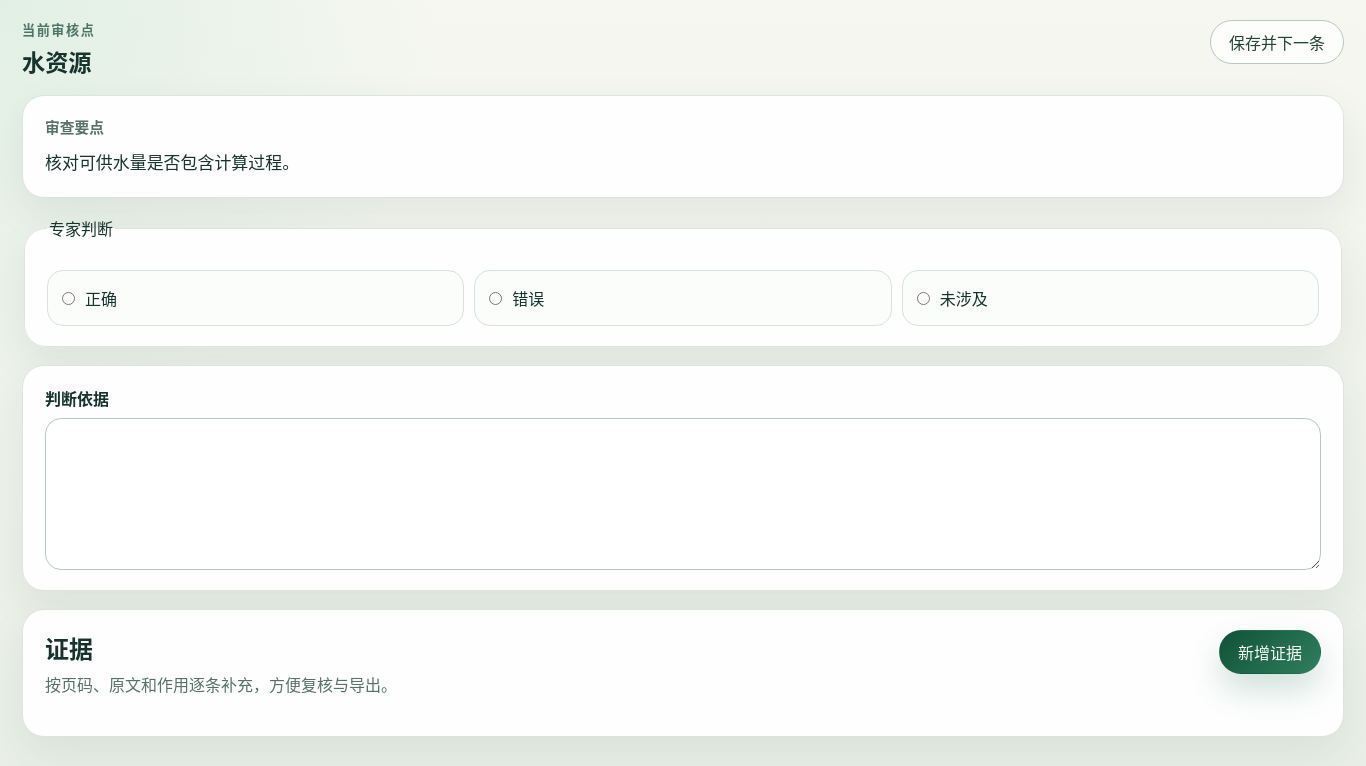
Scenario: AnnotationPanel › completes a stateful edit cycle for a stable task index at array position zero
Click the radio button labelled "错误" at (496, 298), box [489,292,502,305]
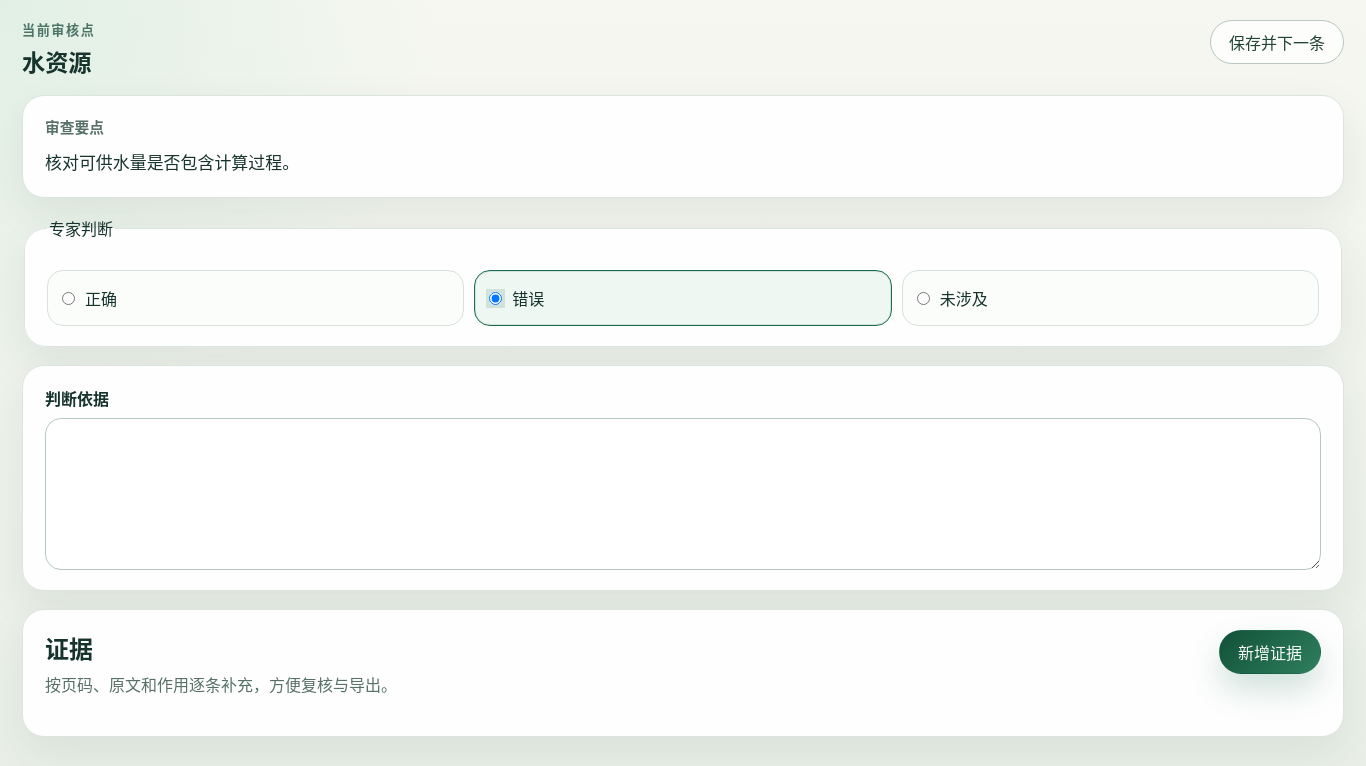
Result: the radio button labelled "错误" is checked at [489,292,502,305]
Type "状态化判断依据" into the text box labelled "判断依据" at (683, 494), box [45,418,1321,570]
Click the button "新增证据" at (1270, 652), box [1219,630,1321,674]
(page scrolled)
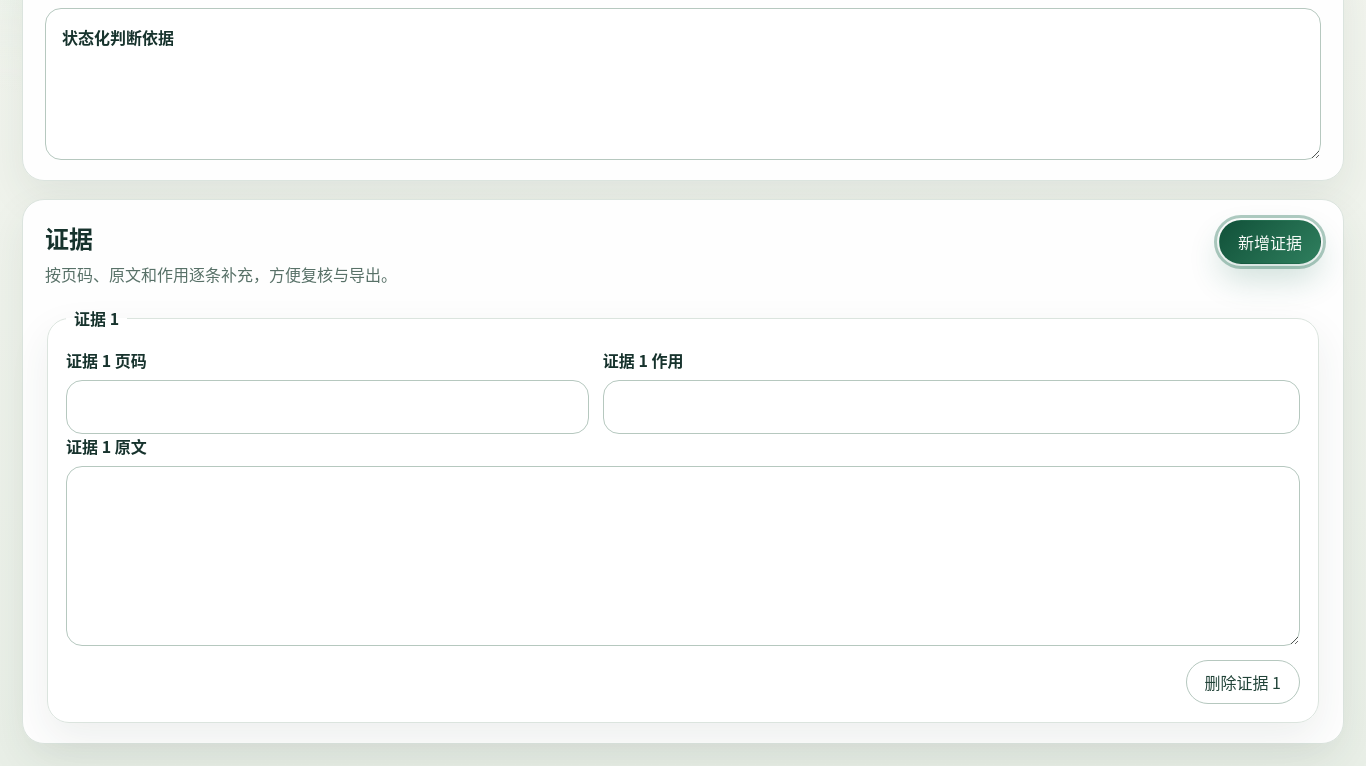
Result: the element "证据 1" is shown at [47,306,1319,723]
Type "6" into the field labelled "证据 1 页码" at (327, 407), box [66,380,589,434]
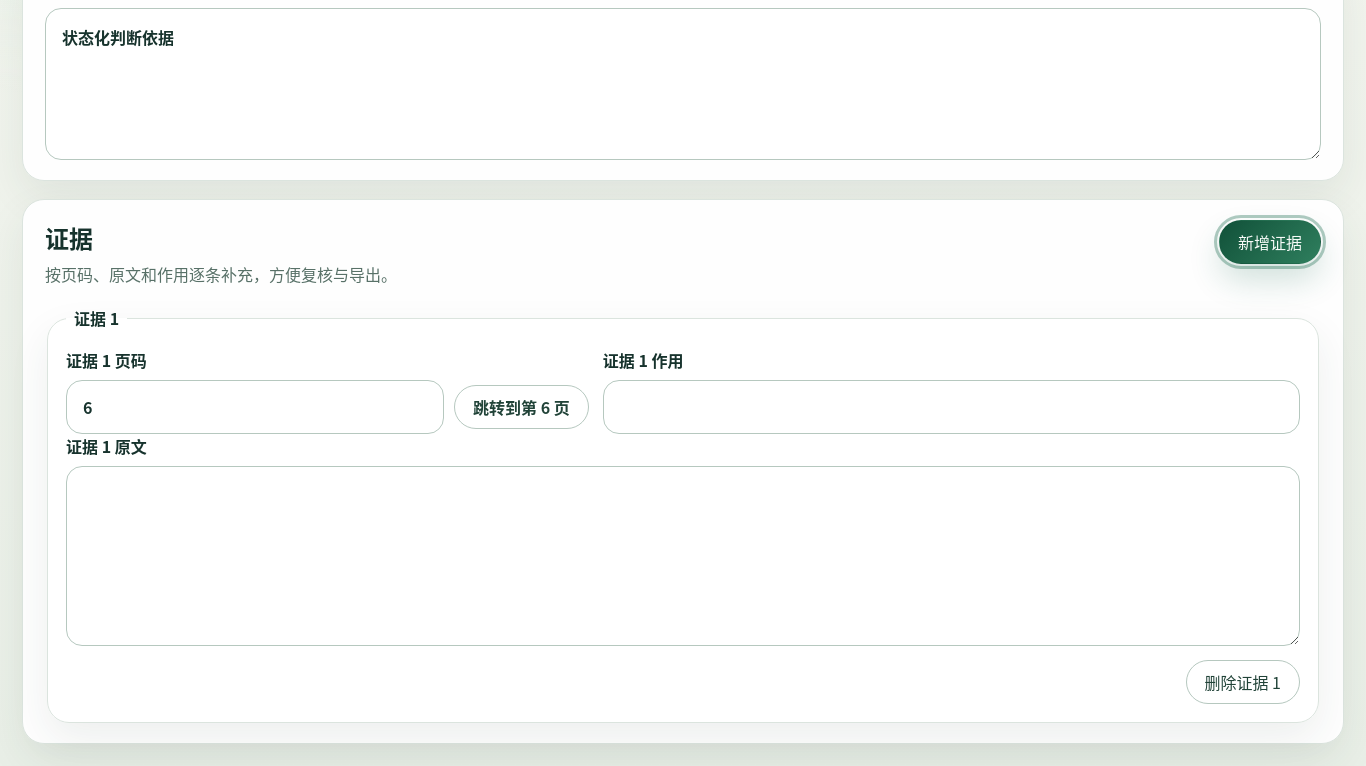
Type "新增后的证据原文" into the text box labelled "证据 1 原文" at (683, 556), box [66,466,1300,646]
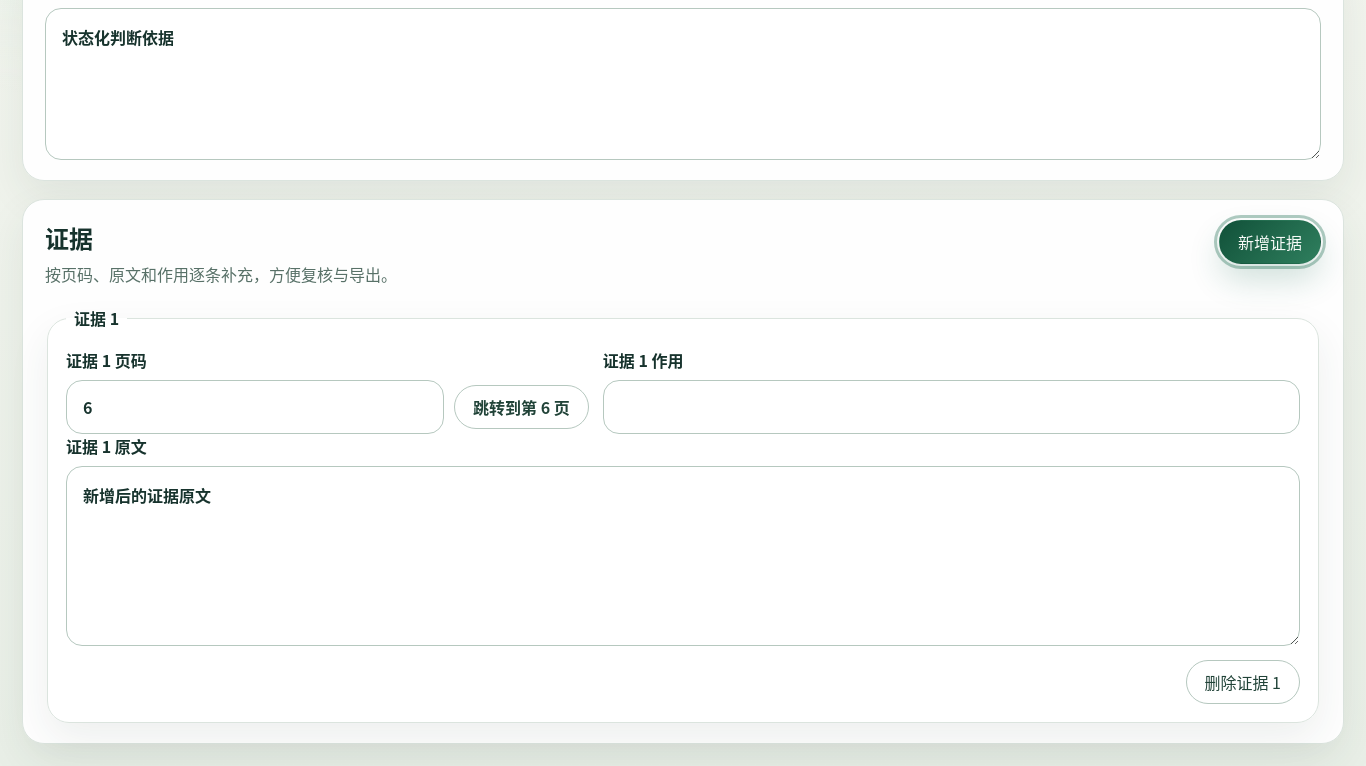
Type "直接支持" into the field labelled "证据 1 作用" at (951, 407), box [603,380,1300,434]
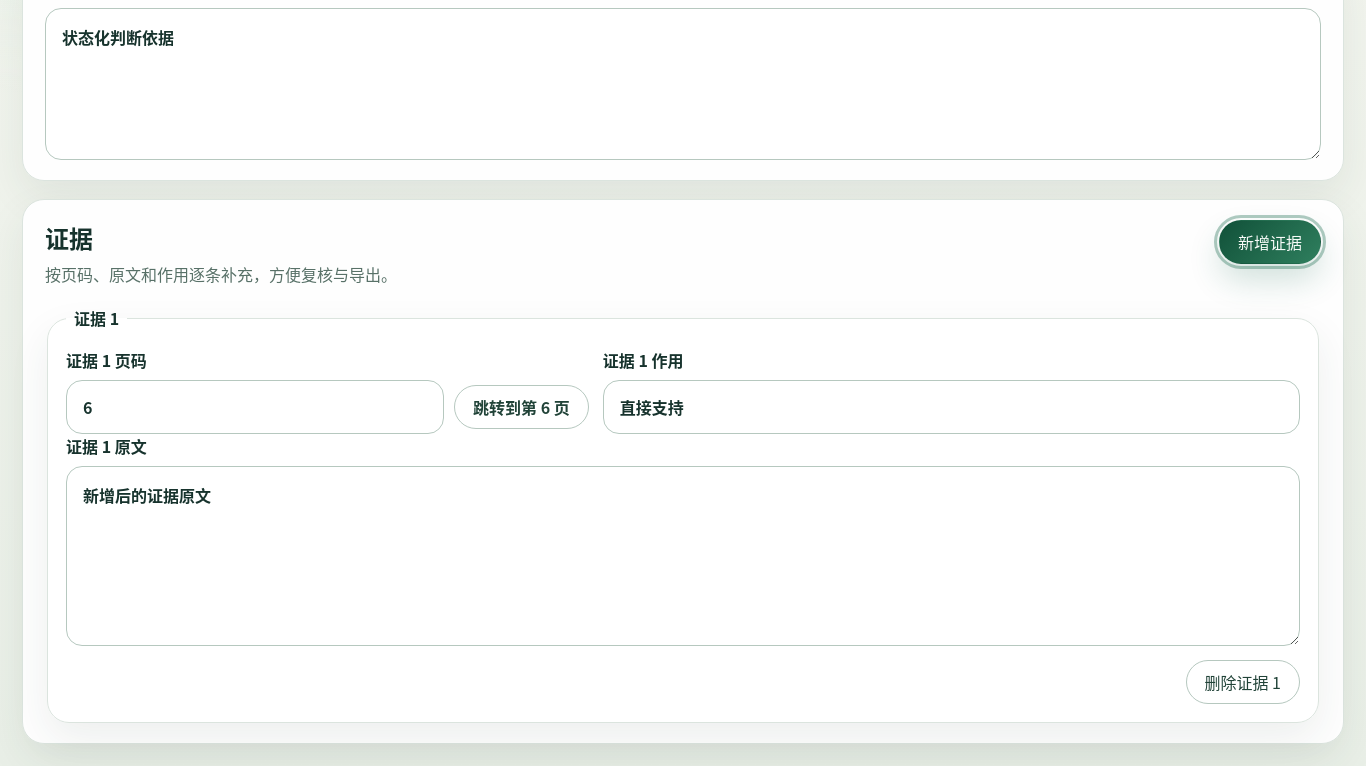
Result: the button "跳转到第 6 页" is shown at [454,385,589,429]
Click the button "删除证据 1" at (1243, 682), box [1186,660,1300,704]
(page scrolled)
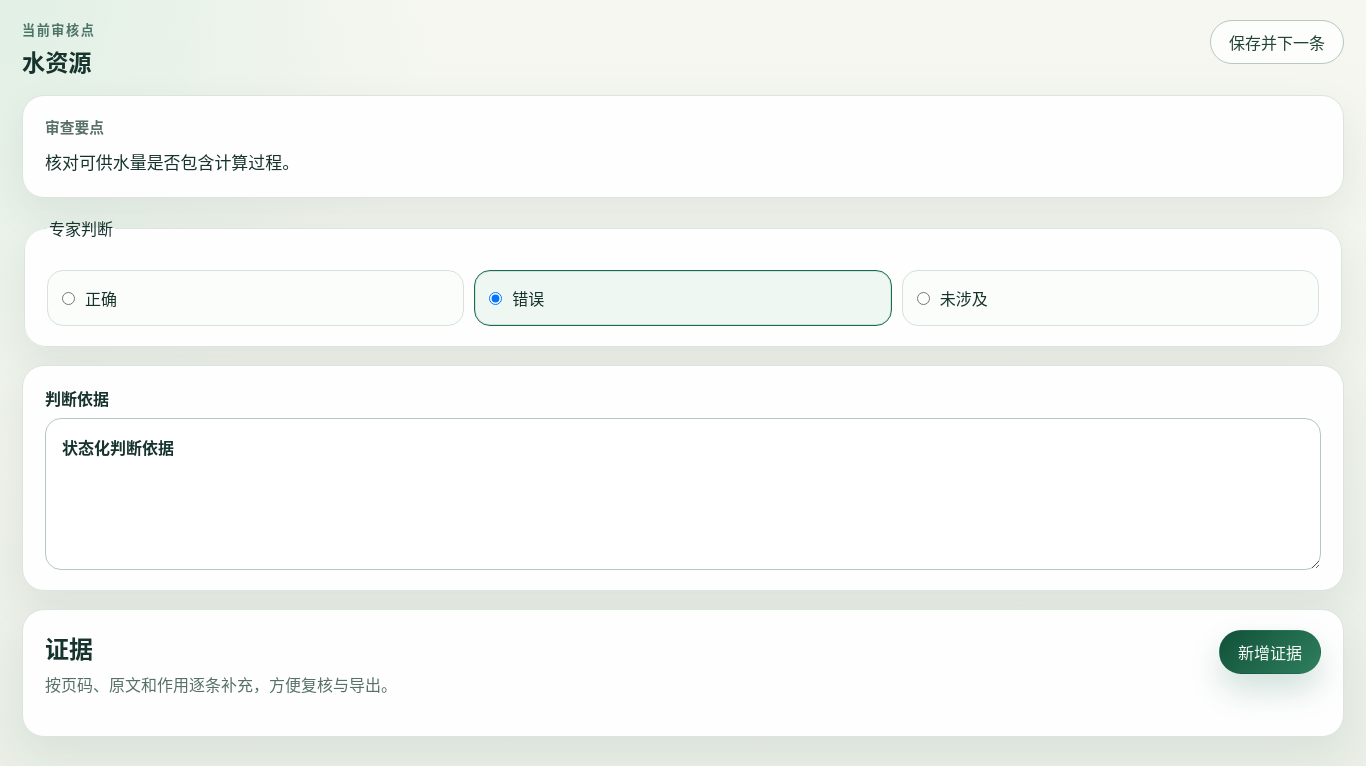
Result: the text "证据 1" is gone
Result: the label "证据 1 页码" is gone
